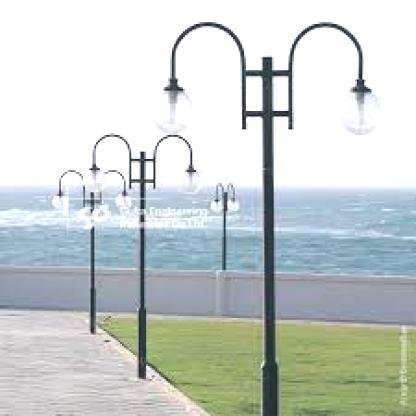light_pole: (152, 19, 385, 415), (83, 133, 202, 377), (52, 169, 132, 339), (211, 181, 238, 270)
